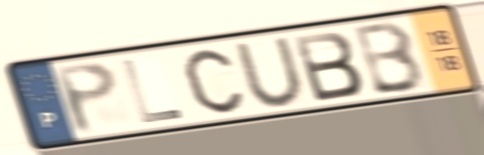B: (352, 18, 429, 98), (289, 28, 366, 104)
C: (181, 47, 247, 116)
L: (118, 57, 187, 126)
P: (50, 59, 121, 137)
U: (230, 33, 311, 109)
